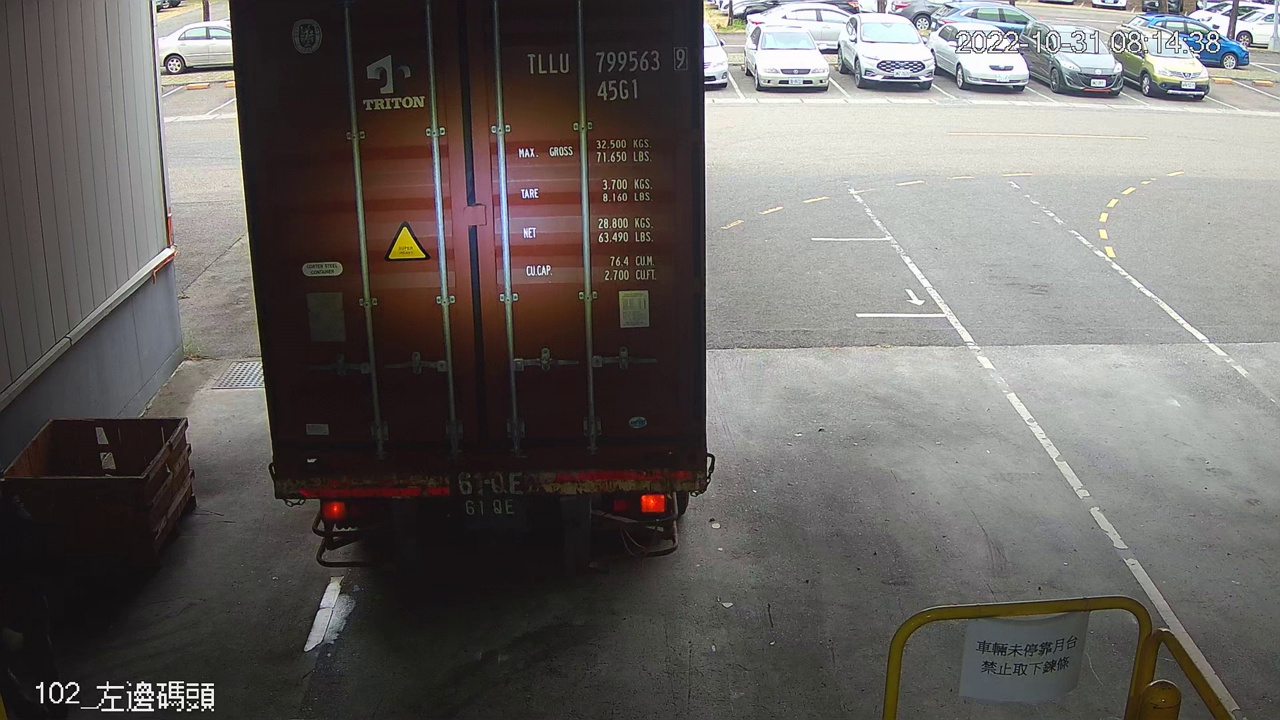container: (520, 40, 693, 106)
